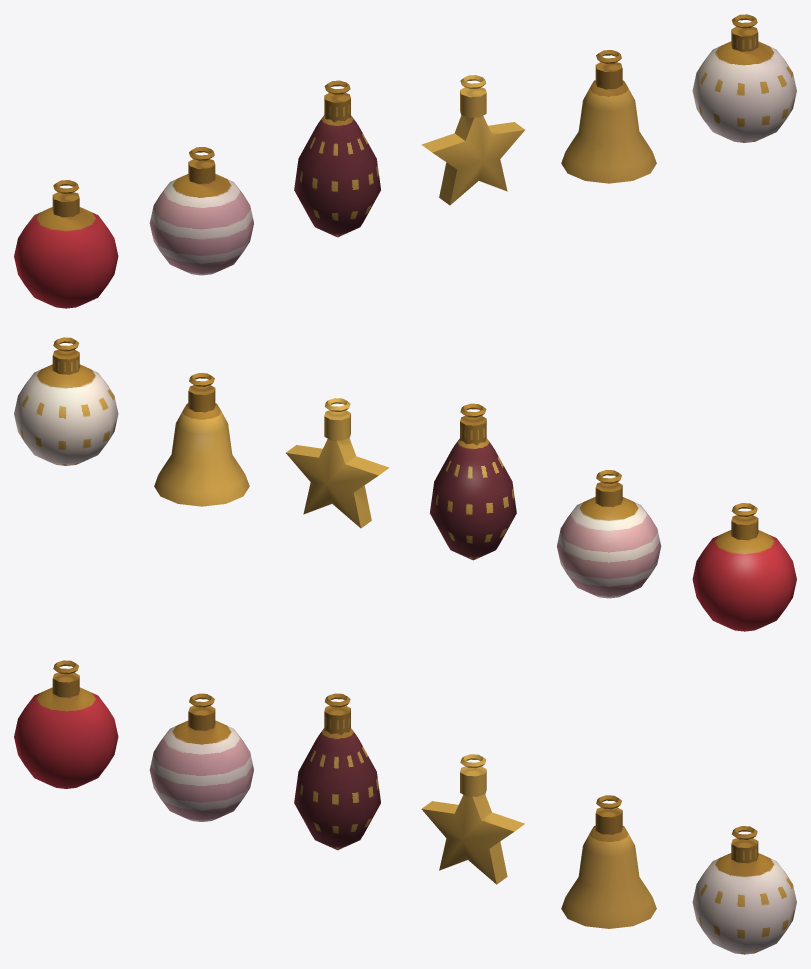
The model's file is ornaments.glb.
3 renders of one model, top to bottom at view 1: azimuth 30°, elevation 25°; view 2: azimuth 150°, elevation 25°; view 3: azimuth 330°, elevation 25°, orthographic.
Visible parts, largest first — view 1: Orn_Snowball, Orn_Ball, Orn_Stripe, Orn_Drop, Orn_Bell, Orn_Star; view 2: Orn_Snowball, Orn_Ball, Orn_Stripe, Orn_Drop, Orn_Bell, Orn_Star; view 3: Orn_Ball, Orn_Stripe, Orn_Snowball, Orn_Drop, Orn_Bell, Orn_Star.
Part boxes in pixels (x1,y1,x2,y2): Orn_Snowball: (692, 14, 796, 142); Orn_Ball: (14, 180, 118, 308); Orn_Stripe: (149, 147, 253, 275); Orn_Drop: (294, 80, 380, 237); Orn_Bell: (561, 50, 656, 183); Orn_Star: (421, 75, 524, 205); Orn_Snowball: (14, 337, 118, 465); Orn_Ball: (692, 503, 796, 631); Orn_Stripe: (557, 470, 661, 598); Orn_Drop: (430, 403, 516, 560); Orn_Bell: (154, 373, 249, 506); Orn_Star: (286, 398, 389, 528); Orn_Ball: (14, 660, 118, 788); Orn_Stripe: (149, 693, 253, 821); Orn_Snowball: (692, 826, 796, 954); Orn_Drop: (294, 693, 380, 850); Orn_Bell: (561, 795, 656, 928); Orn_Star: (421, 754, 524, 884).
Size of the model in its own units: 1.02 by 0.1975 by 0.12.
Materials: 1 (1 with a texture image).
